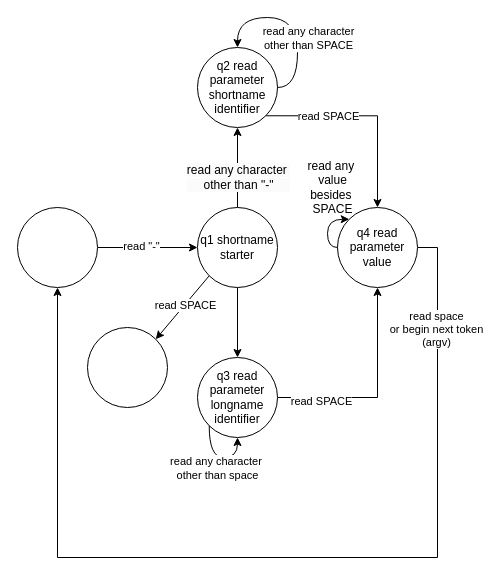
The diagram is 500 pixels wide and 583 high, and some of its shapes have lost their labels. Each missing label, with the centre of its shape:
q0 start: (x=57, y=247)
q5 TOKEN ERROR: (x=127, y=367)
